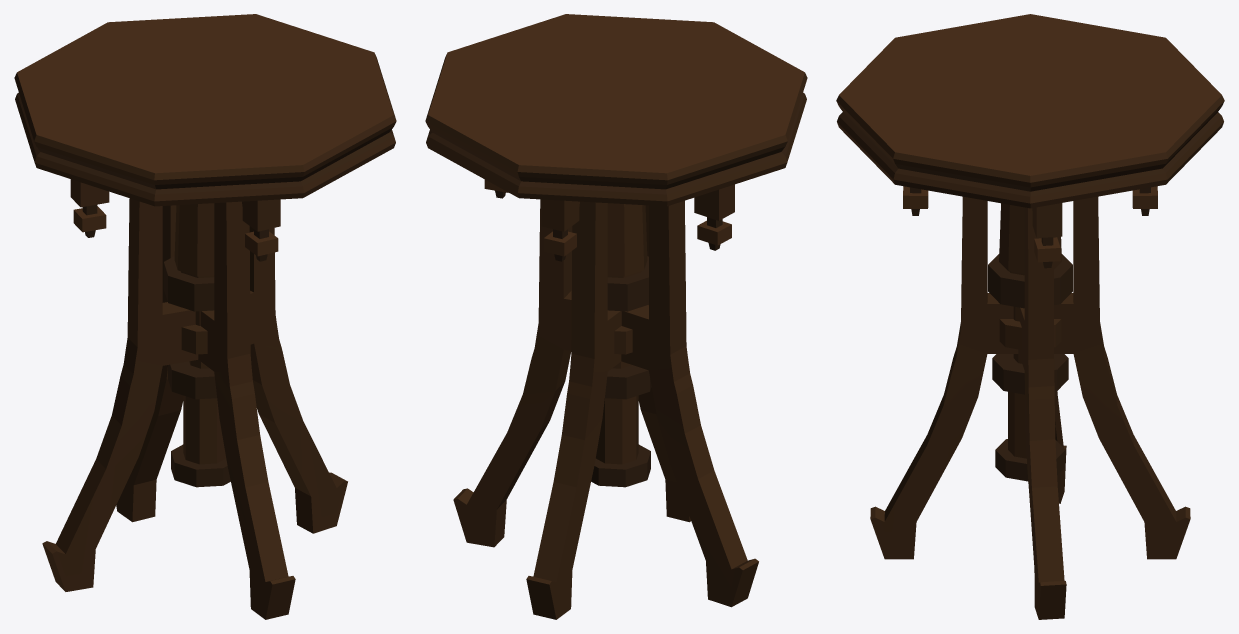
The model's file is Table3.fbx.
The picture shows the model from 3 angles, left to right: view 1: azimuth 30°, elevation 25°; view 2: azimuth 150°, elevation 25°; view 3: azimuth 270°, elevation 25°; orthographic projection.
Visible parts, largest first — view 1: Cylinder.018; view 2: Cylinder.018; view 3: Cylinder.018.
Boxes of the visible parts, <box> form: Cylinder.018: <box>14,14,396,619</box>; Cylinder.018: <box>425,14,807,619</box>; Cylinder.018: <box>836,14,1224,619</box>.
Bounding box in the file's own units: 0.7552 × 0.7552 × 0.9867.
